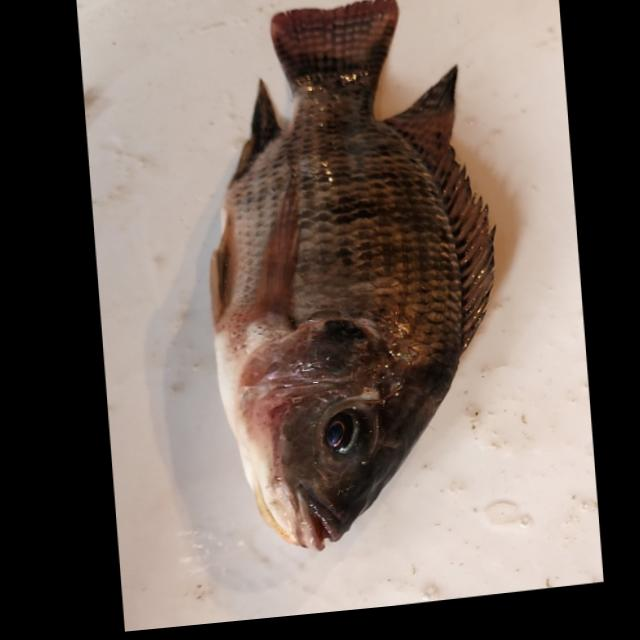Tilapia: (185, 0, 520, 561)
